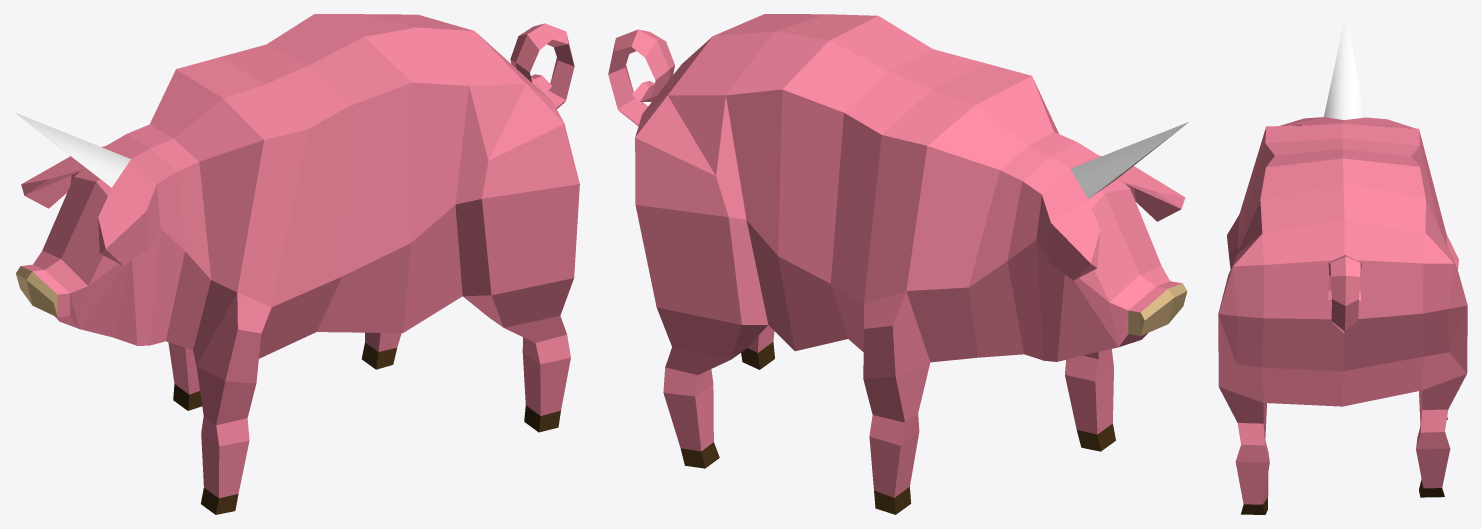
The model's file is pigWalking7.obj.
3 views of the same model, side by side, from view 1: azimuth 30°, elevation 25°; view 2: azimuth 150°, elevation 25°; view 3: azimuth 270°, elevation 25° (orthographic). The views are drawn at different scales.
Visible parts, largest first — view 1: Pig_Cylinder; view 2: Pig_Cylinder; view 3: Pig_Cylinder.
Boxes of the visible parts, box(x1,y1,x2,y2) form: Pig_Cylinder: box(14, 14, 579, 514); Pig_Cylinder: box(608, 14, 1188, 514); Pig_Cylinder: box(1218, 15, 1467, 514).
Bounding box in the file's own units: 23.23 × 15.51 × 11.11.
